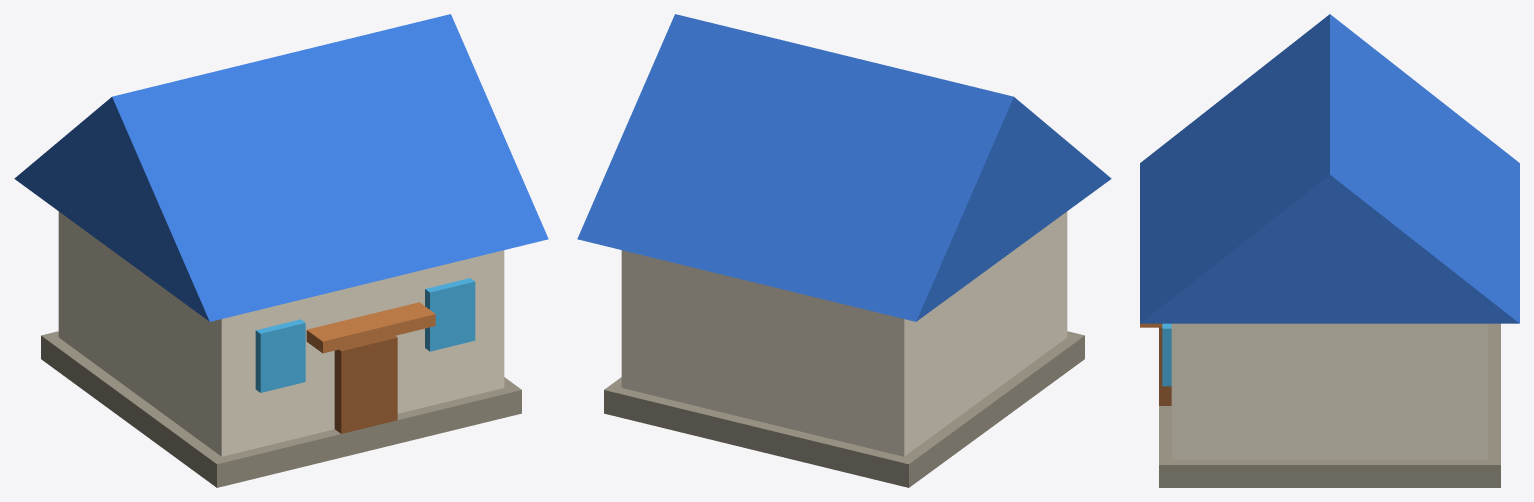
File: house_t1_v4.glb
3 views of the same model, side by side, from view 1: azimuth 30°, elevation 25°; view 2: azimuth 150°, elevation 25°; view 3: azimuth 270°, elevation 25° (orthographic). The views are drawn at different scales.
Visible parts, largest first — view 1: house_t1_v4; view 2: house_t1_v4; view 3: house_t1_v4.
Boxes of the visible parts, x1,y1,x2,y2 form: house_t1_v4: [14, 14, 548, 487]; house_t1_v4: [577, 14, 1111, 487]; house_t1_v4: [1140, 14, 1519, 487].
Size of the model in its own units: 0.6 by 0.56 by 0.6.
Materials: 1 (1 with a texture image).
